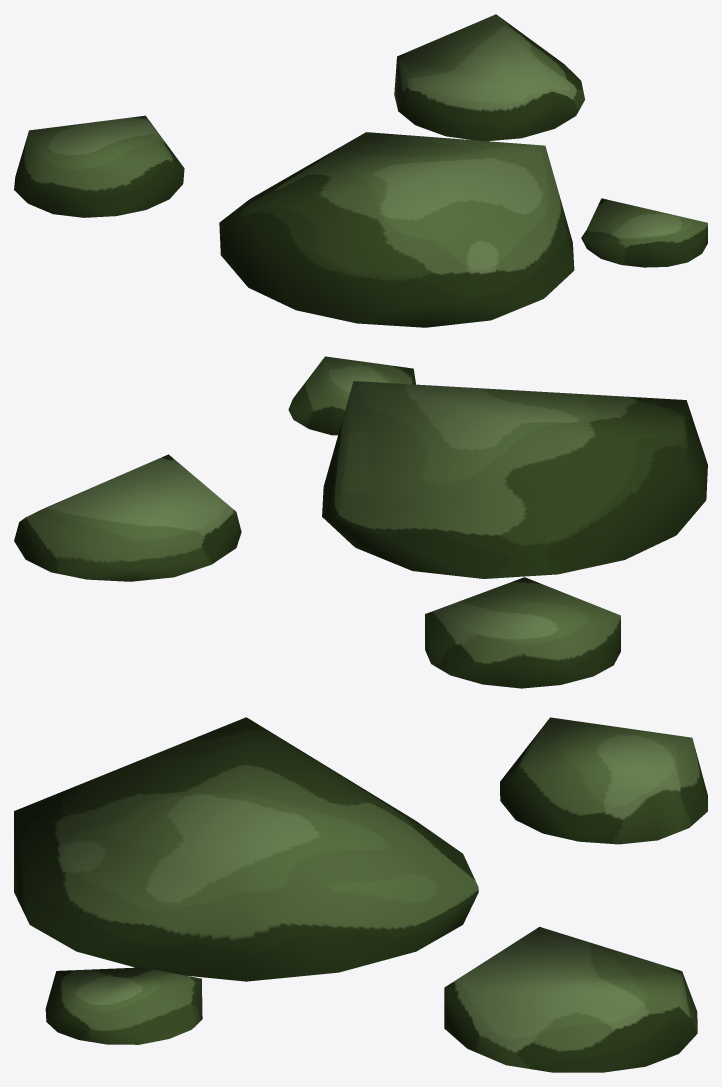
The model's file is Rock 1x 1 7_preview_3DS_simplified.glb.
The picture shows the model from 3 angles, top to bottom: view 1: azimuth 30°, elevation 25°; view 2: azimuth 150°, elevation 25°; view 3: azimuth 270°, elevation 25°; orthographic projection. The views are drawn at different scales.
Visible parts, largest first — view 1: Marine Park Empire model; view 2: Marine Park Empire model; view 3: Marine Park Empire model.
Part boxes in pixels (x1,y1,x2,y2): Marine Park Empire model: (14,14,707,327); Marine Park Empire model: (14,356,707,688); Marine Park Empire model: (14,717,707,1072).
Bounding box in the file's own units: 25.37 × 3.24 × 22.85.
1 material, 1 textured.
